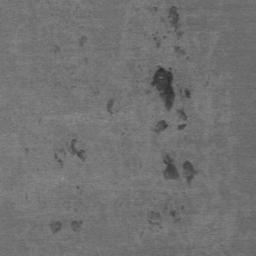Iron scale compression: (151, 67, 190, 131), (163, 157, 193, 186), (168, 6, 183, 38), (70, 139, 88, 162), (154, 120, 168, 134), (50, 222, 62, 234), (106, 99, 114, 114), (72, 220, 82, 230)
